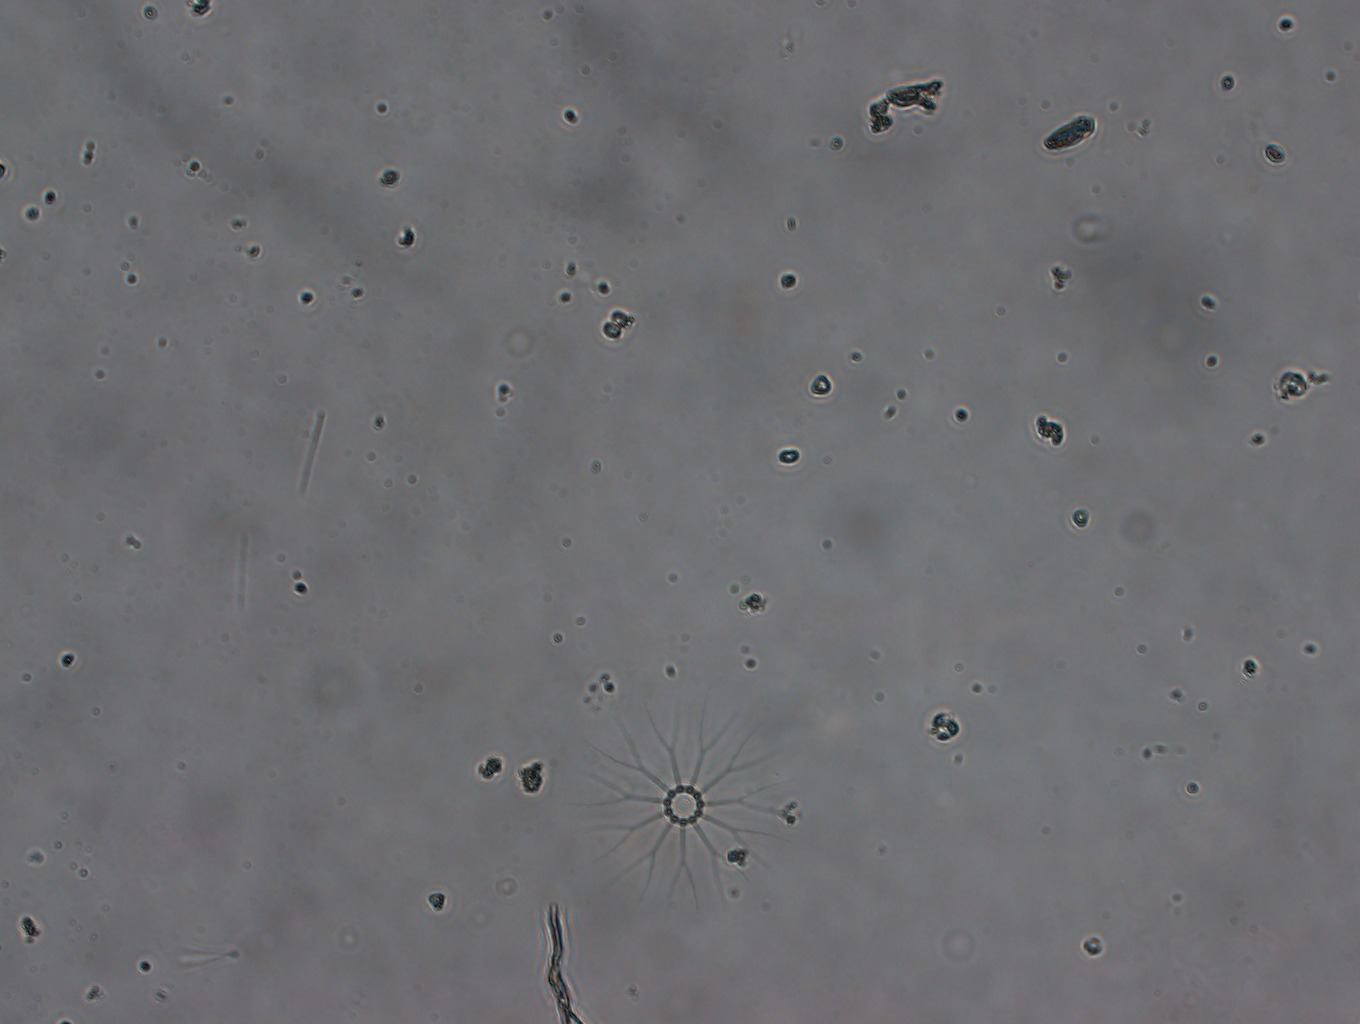bacteriastrum: (572, 696, 798, 918)
